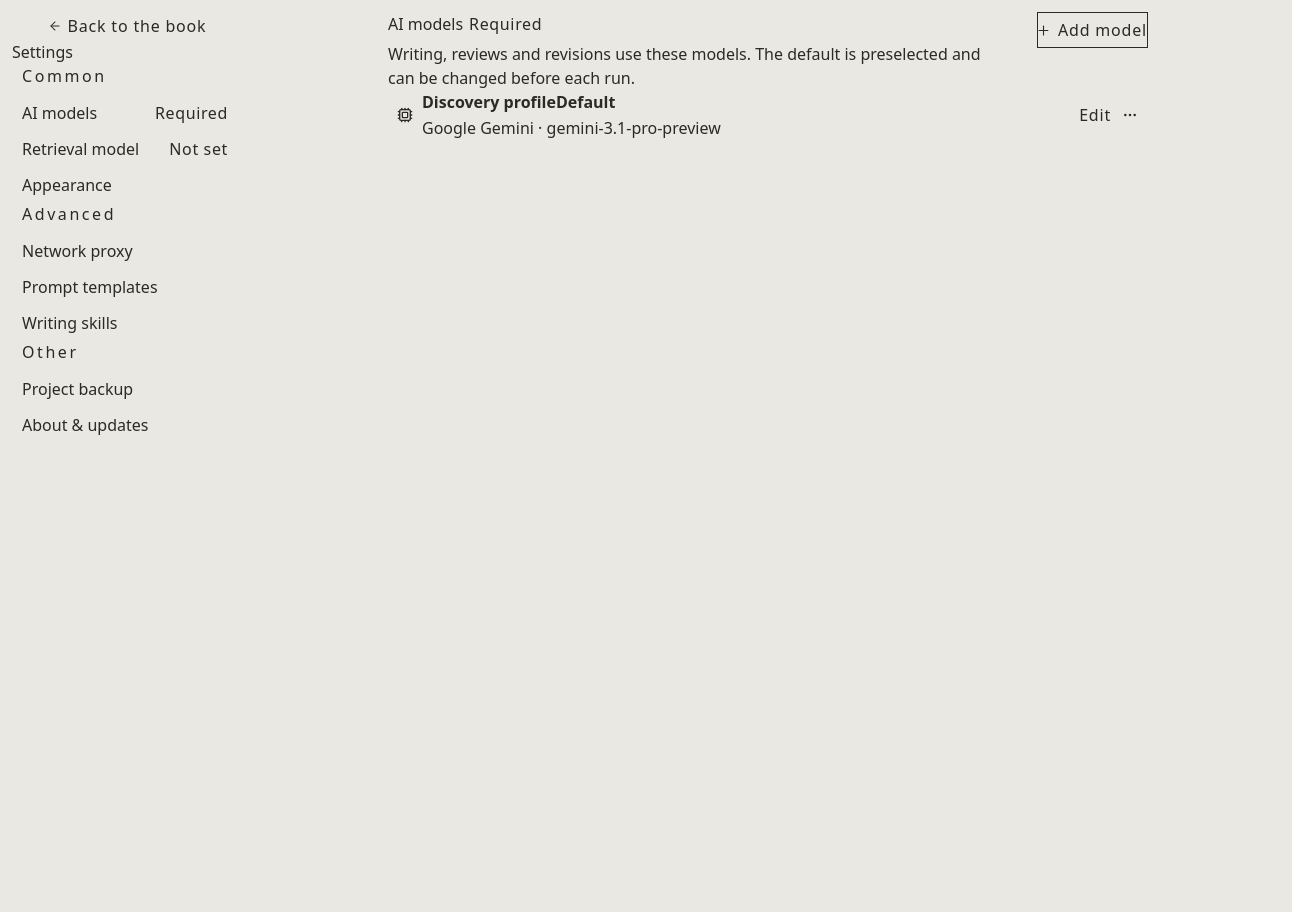
Test: model discovery settings flow › explains in en-US that turning thinking off on Gemini 3 sends its lowest level
Click the button with aria-label "Edit “" at point(1095, 115), box [1078,101,1112,129]
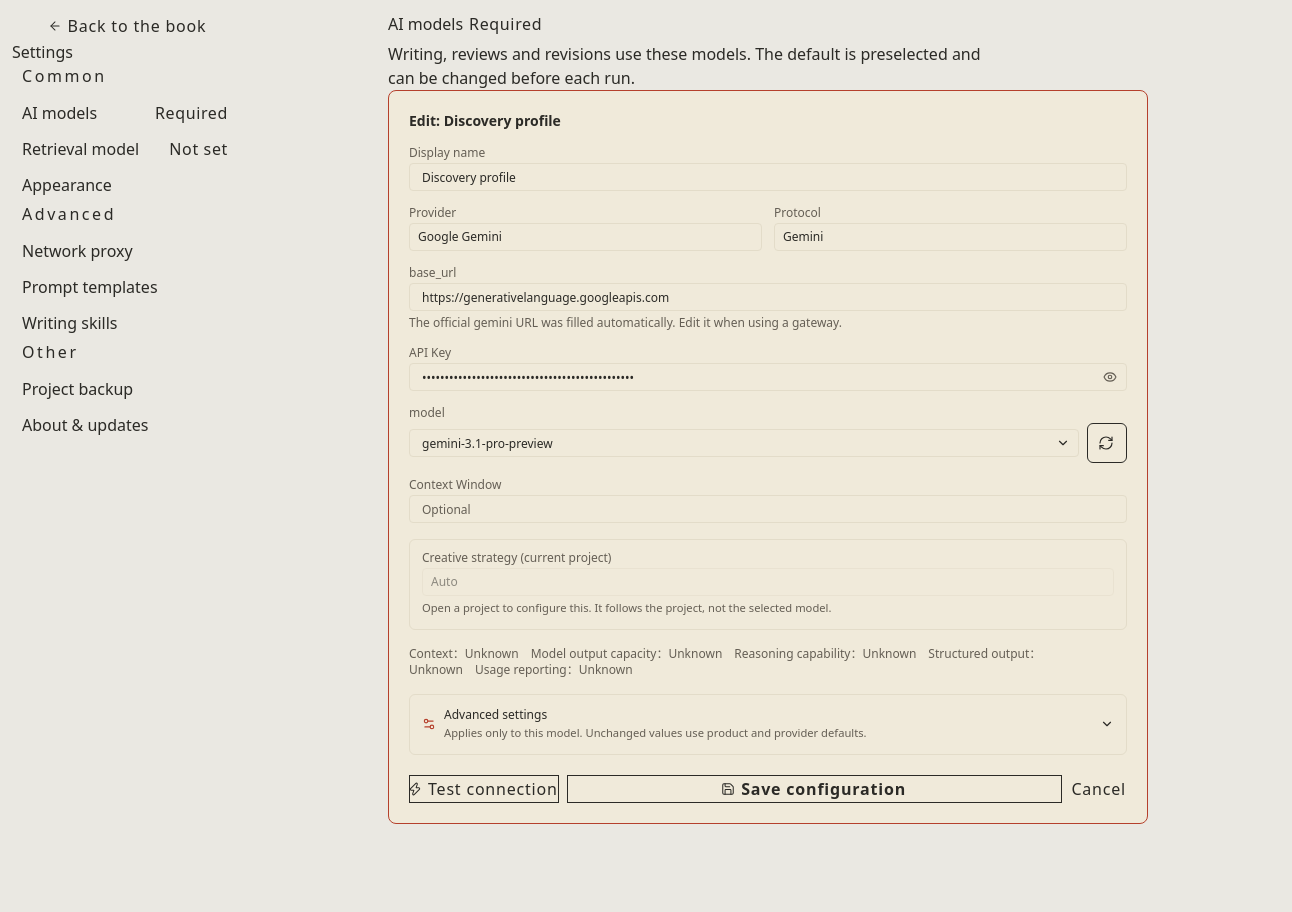
Click the button "Advanced settings" at point(768, 724), box [410,695,1126,754]
(page scrolled)
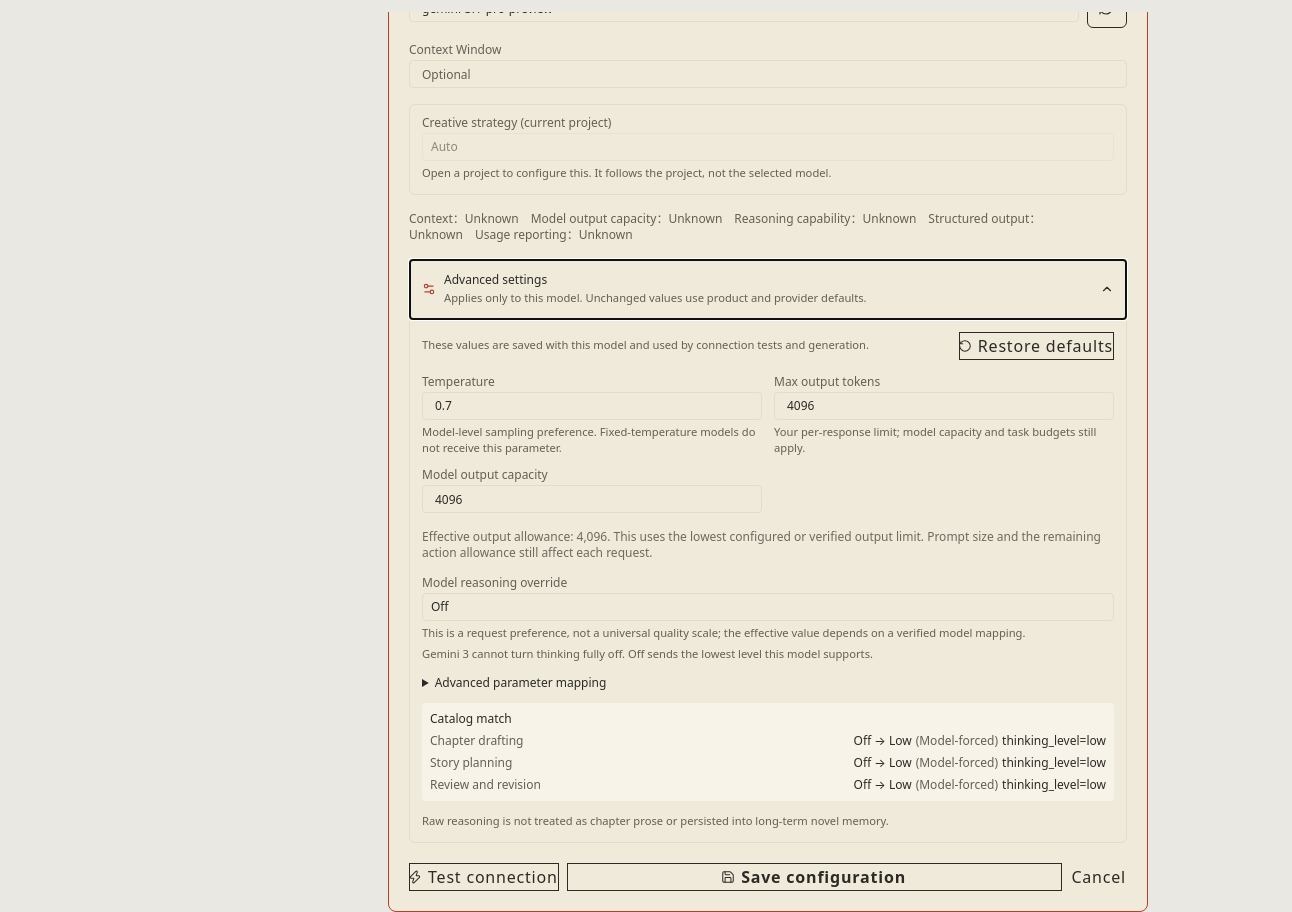
expect the element that starts with "Model reasoning override" shows "Off → Low": met, box [422,577,1114,830]
expect the text "thinking_level=low" in the row of "Chapter drafting" is shown: met, box [1002,732,1106,749]
expect the element that starts with "Model reasoning override" shows "Gemini 3 cannot turn thinking fully off": met, box [422,646,873,661]
